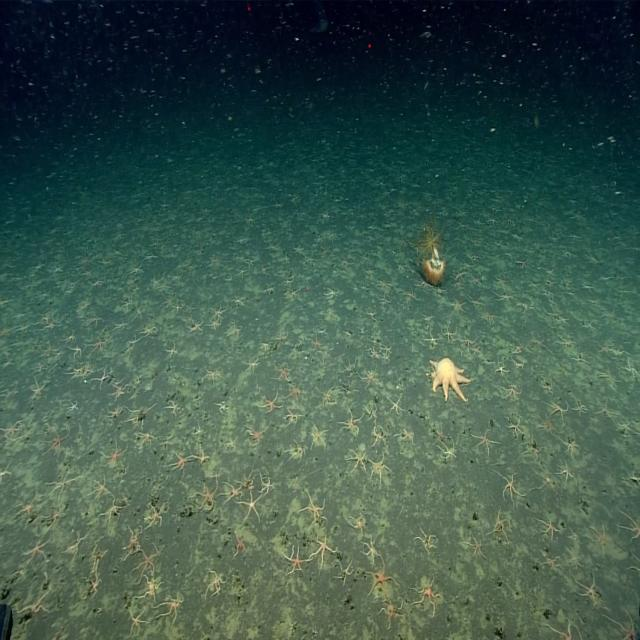brittle-stars: (369, 559, 397, 596), (414, 578, 441, 614), (577, 574, 602, 608), (49, 470, 78, 499), (18, 590, 48, 618), (312, 534, 336, 568), (135, 546, 159, 580), (610, 613, 640, 640), (499, 471, 523, 504), (302, 492, 327, 523), (284, 545, 308, 575), (547, 620, 583, 640), (46, 430, 72, 457), (619, 511, 640, 544), (195, 480, 218, 510), (102, 440, 126, 468), (162, 592, 184, 622), (382, 598, 404, 628), (369, 422, 391, 452), (17, 490, 40, 518), (241, 492, 262, 522), (26, 536, 49, 563), (534, 466, 556, 494), (474, 430, 497, 456), (491, 510, 510, 541), (589, 523, 610, 551), (371, 452, 391, 480), (340, 409, 362, 434), (595, 397, 616, 423), (206, 568, 225, 596), (140, 577, 162, 601), (539, 515, 560, 540), (416, 526, 436, 552), (125, 527, 143, 555), (129, 407, 153, 428), (145, 504, 164, 530), (262, 390, 283, 413), (548, 399, 569, 422), (103, 497, 123, 521), (465, 532, 483, 558), (221, 481, 243, 502), (287, 440, 306, 464), (129, 610, 147, 635), (1, 420, 22, 441), (237, 469, 259, 489), (348, 449, 367, 472), (311, 422, 327, 448), (287, 380, 305, 403), (47, 505, 65, 528), (338, 559, 355, 583), (92, 477, 110, 499), (246, 423, 264, 445), (558, 461, 576, 483), (524, 438, 542, 460), (362, 536, 379, 559), (503, 383, 523, 402), (171, 452, 191, 471), (540, 553, 560, 572), (359, 369, 378, 388), (508, 352, 526, 372), (234, 532, 248, 557), (324, 382, 338, 407), (91, 337, 110, 355), (348, 515, 366, 534), (31, 379, 47, 400), (89, 572, 103, 596), (138, 432, 156, 450), (204, 366, 222, 384), (558, 334, 576, 352), (194, 447, 211, 466), (441, 441, 457, 461), (509, 417, 525, 437), (539, 416, 555, 436), (566, 550, 582, 570), (563, 438, 579, 457), (388, 394, 403, 414), (0, 463, 13, 486), (166, 398, 183, 415), (398, 427, 414, 445), (284, 408, 300, 426), (228, 321, 244, 339), (570, 399, 586, 417), (261, 475, 275, 495), (460, 335, 477, 351), (212, 303, 228, 320), (40, 342, 56, 359), (245, 356, 260, 374), (443, 324, 458, 342), (275, 362, 290, 380), (494, 289, 512, 304), (364, 404, 378, 423), (133, 303, 147, 322), (88, 312, 104, 328), (451, 298, 466, 315), (494, 358, 508, 376), (467, 293, 482, 309), (187, 319, 202, 335), (403, 286, 418, 302), (111, 406, 126, 422), (112, 382, 126, 399), (435, 426, 449, 442), (96, 371, 110, 387), (482, 308, 498, 322), (323, 286, 339, 300), (424, 332, 438, 347), (515, 256, 530, 270), (70, 344, 84, 359), (141, 324, 157, 337), (166, 342, 178, 359), (208, 318, 222, 332), (114, 317, 128, 331), (215, 402, 229, 416), (130, 264, 144, 278), (378, 292, 392, 306), (495, 274, 508, 288), (150, 274, 162, 289), (312, 335, 323, 351), (292, 241, 305, 254), (68, 399, 80, 413), (368, 346, 380, 360), (185, 300, 196, 315), (381, 344, 393, 356), (192, 424, 202, 437)
